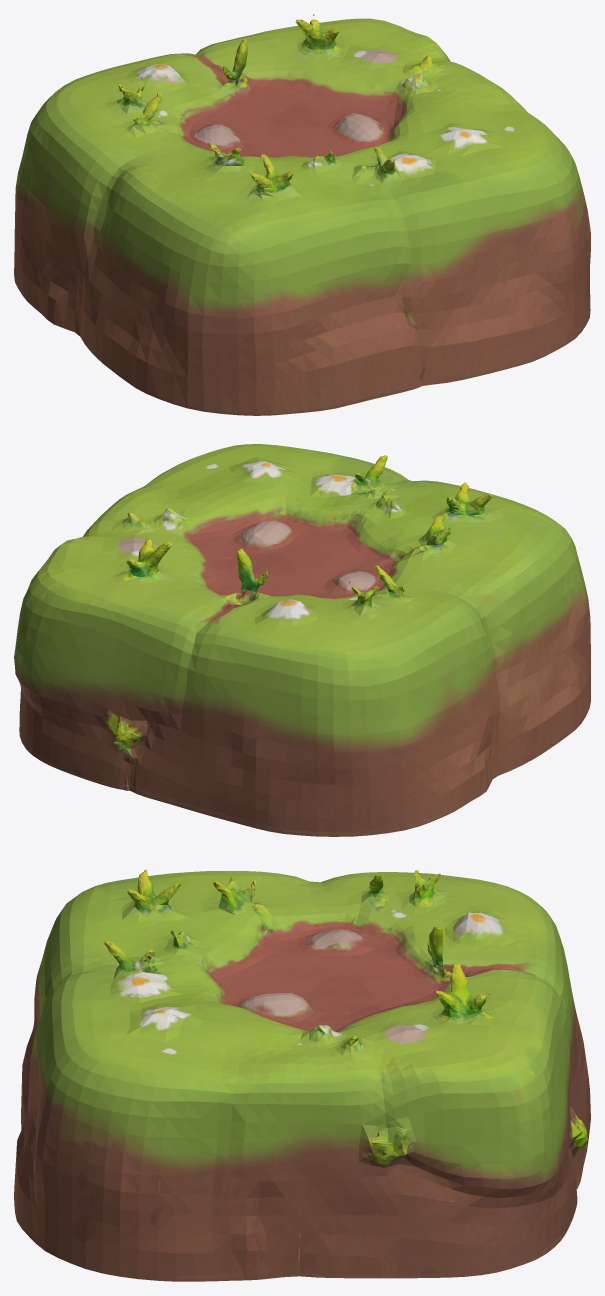
Rendered from Stage_03_Ground_Grass_003.fbx.
The picture shows the model from 3 angles, top to bottom: view 1: azimuth 30°, elevation 25°; view 2: azimuth 150°, elevation 25°; view 3: azimuth 270°, elevation 25°; orthographic projection. The views are drawn at different scales.
Parts seen in each view (by area): view 1: Stage_03_Ground_Grass_003; view 2: Stage_03_Ground_Grass_003; view 3: Stage_03_Ground_Grass_003.
Boxes of the visible parts, x1,y1,x2,y2 form: Stage_03_Ground_Grass_003: [14, 14, 590, 415]; Stage_03_Ground_Grass_003: [14, 444, 590, 836]; Stage_03_Ground_Grass_003: [14, 869, 590, 1281].
Bounding box in the file's own units: 99.05 × 46.05 × 100.
